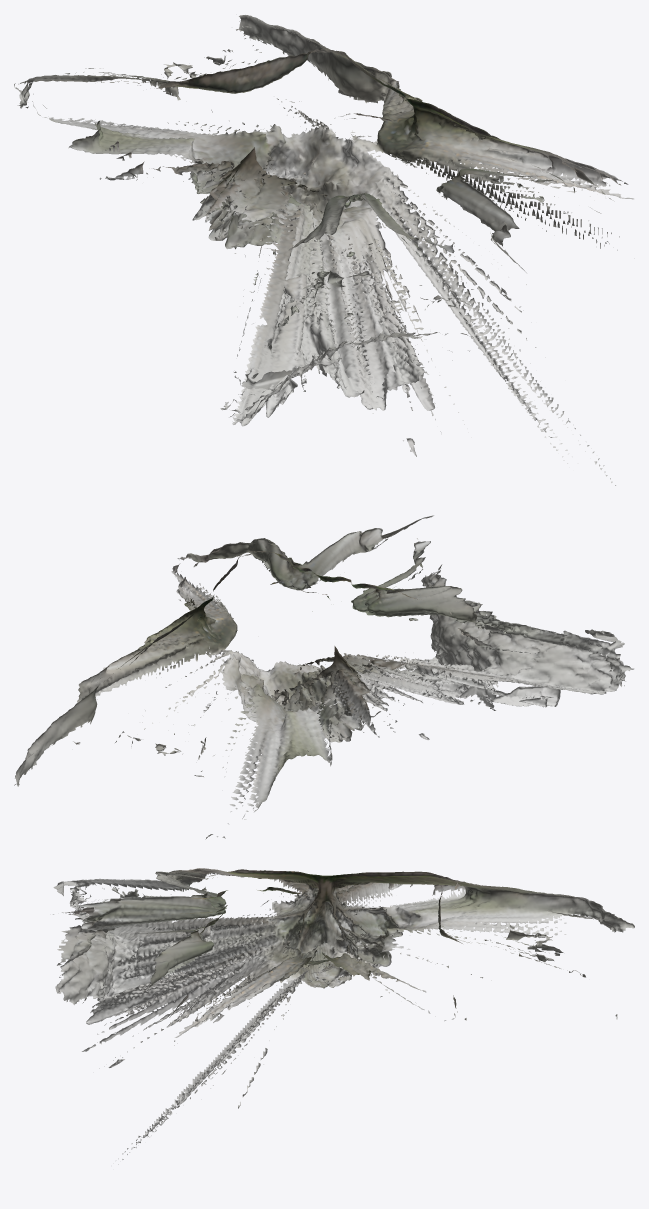
Rendered from world-1770287412370.glb.
The picture shows the model from 3 angles, top to bottom: view 1: azimuth 30°, elevation 25°; view 2: azimuth 150°, elevation 25°; view 3: azimuth 270°, elevation 25°; orthographic projection. The views are drawn at different scales.
Visible parts, largest first — view 1: world; view 2: world; view 3: world.
Part boxes in pixels (x1,y1,x2,y2): world: [14, 15, 633, 485]; world: [14, 515, 634, 839]; world: [53, 868, 634, 1164].
Size of the model in its own units: 23 by 14.26 by 32.91.
